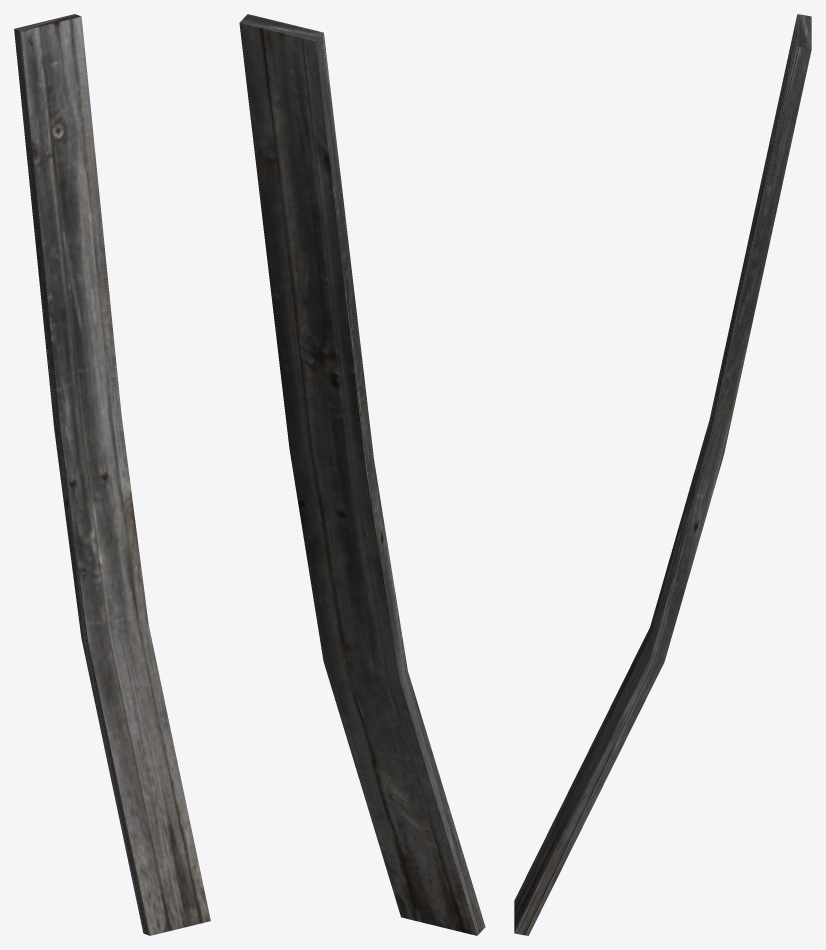
File: plank2.obj
3 views of the same model, side by side, from view 1: azimuth 30°, elevation 25°; view 2: azimuth 150°, elevation 25°; view 3: azimuth 270°, elevation 25° (orthographic). The views are drawn at different scales.
Visible parts, largest first — view 1: def_surf_mat; view 2: def_surf_mat; view 3: def_surf_mat.
Part boxes in pixels (<box>): def_surf_mat: <box>14,14,210,935</box>; def_surf_mat: <box>239,14,485,935</box>; def_surf_mat: <box>514,14,811,935</box>.
Size of the model in its own units: 11.78 by 150 by 45.52.
Materials: 1 (1 with a texture image).
